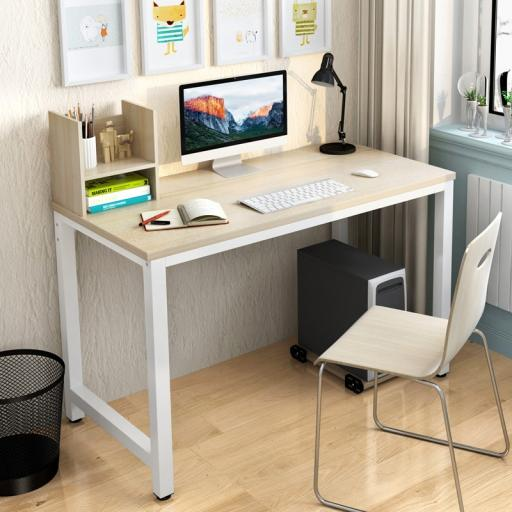chair: (312, 211, 511, 512)
desk: (48, 98, 456, 500)
wall: (0, 0, 358, 415)
